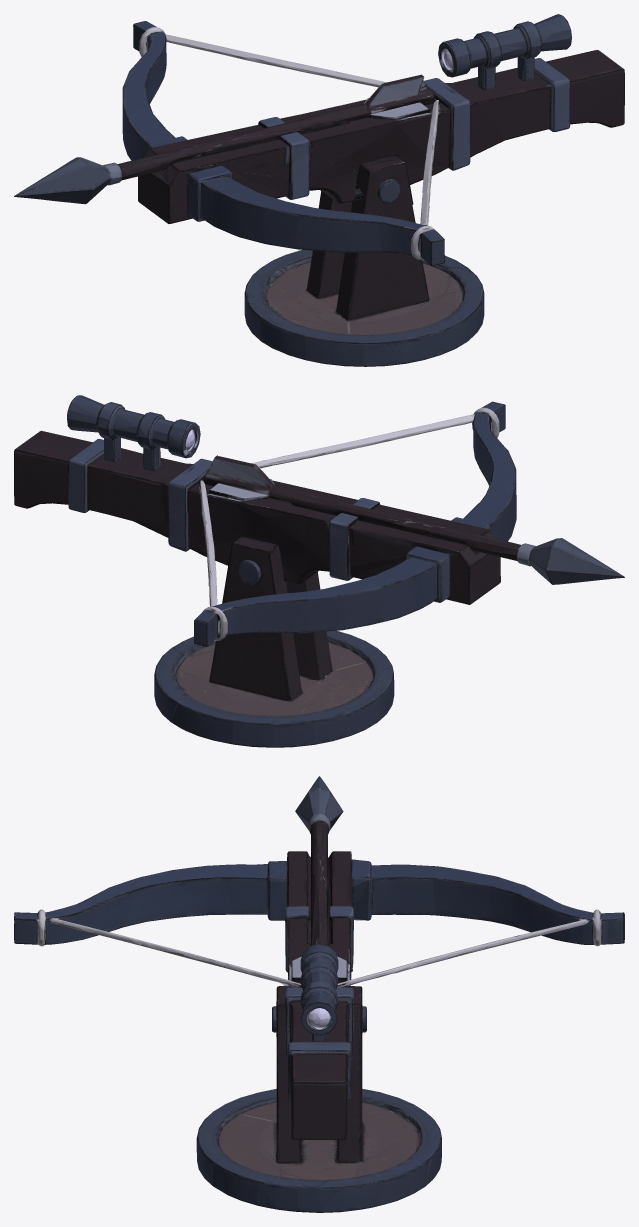
File: sniper.glb
3 views of the same model, one above another, from view 1: azimuth 30°, elevation 25°; view 2: azimuth 150°, elevation 25°; view 3: azimuth 270°, elevation 25° (orthographic). The views are drawn at different scales.
Size of the model in its own units: 1.9 by 0.7703 by 1.64.
1 material, 1 textured.
